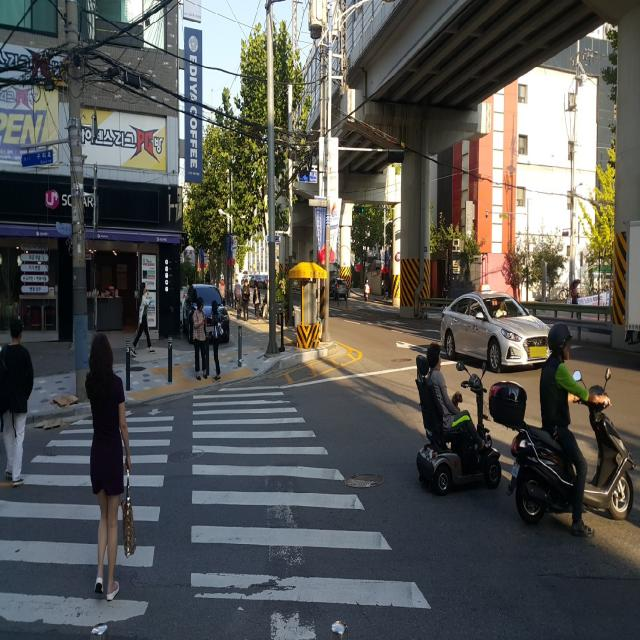횡단보도: (1, 379, 434, 637)
